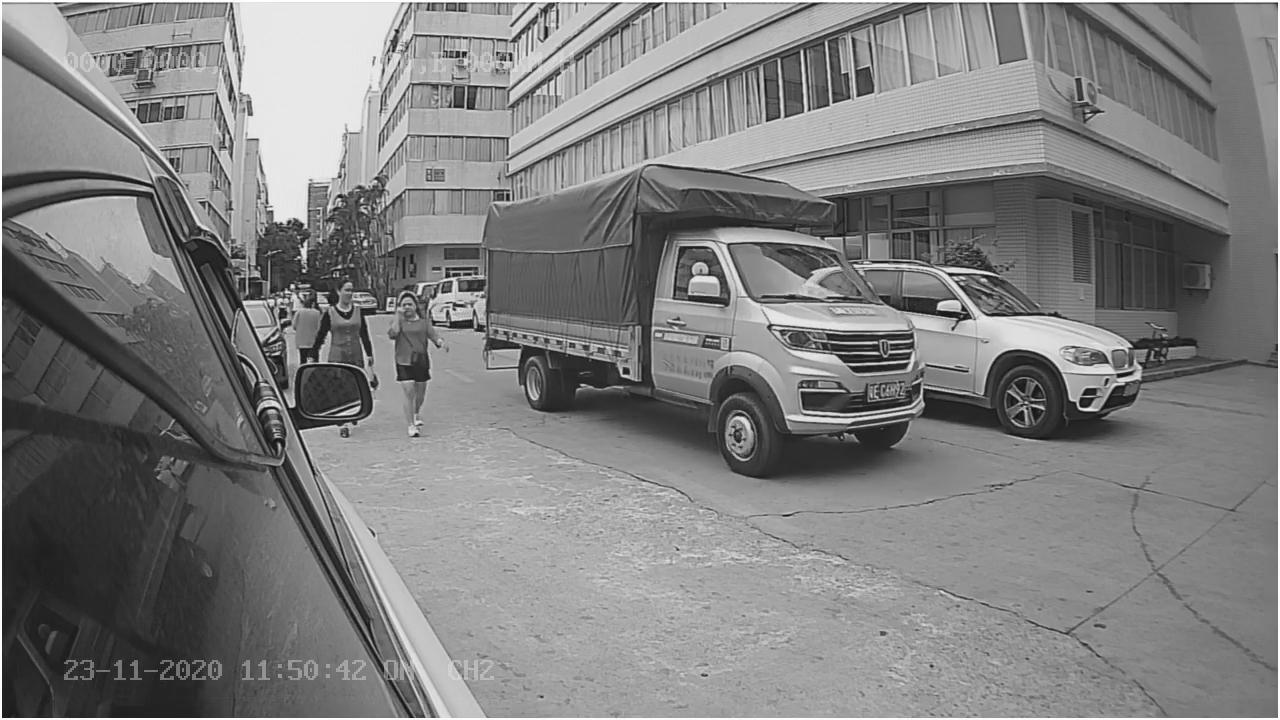person: (385, 287, 453, 437)
